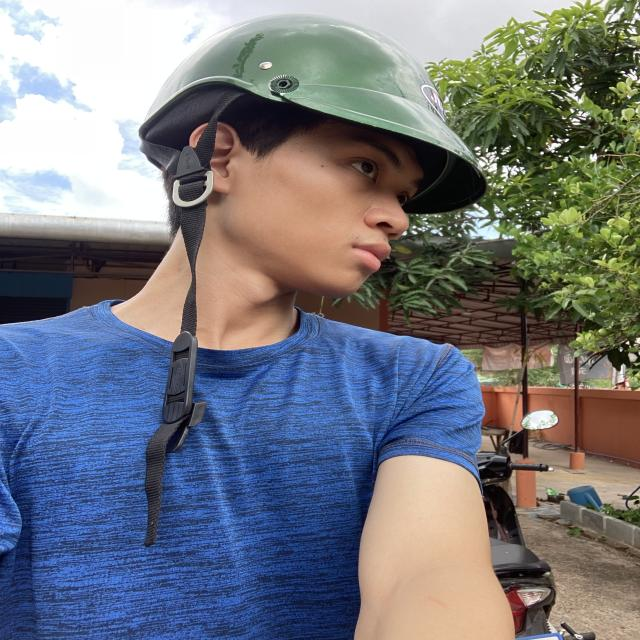illegal_helmet: (118, 6, 496, 551)
